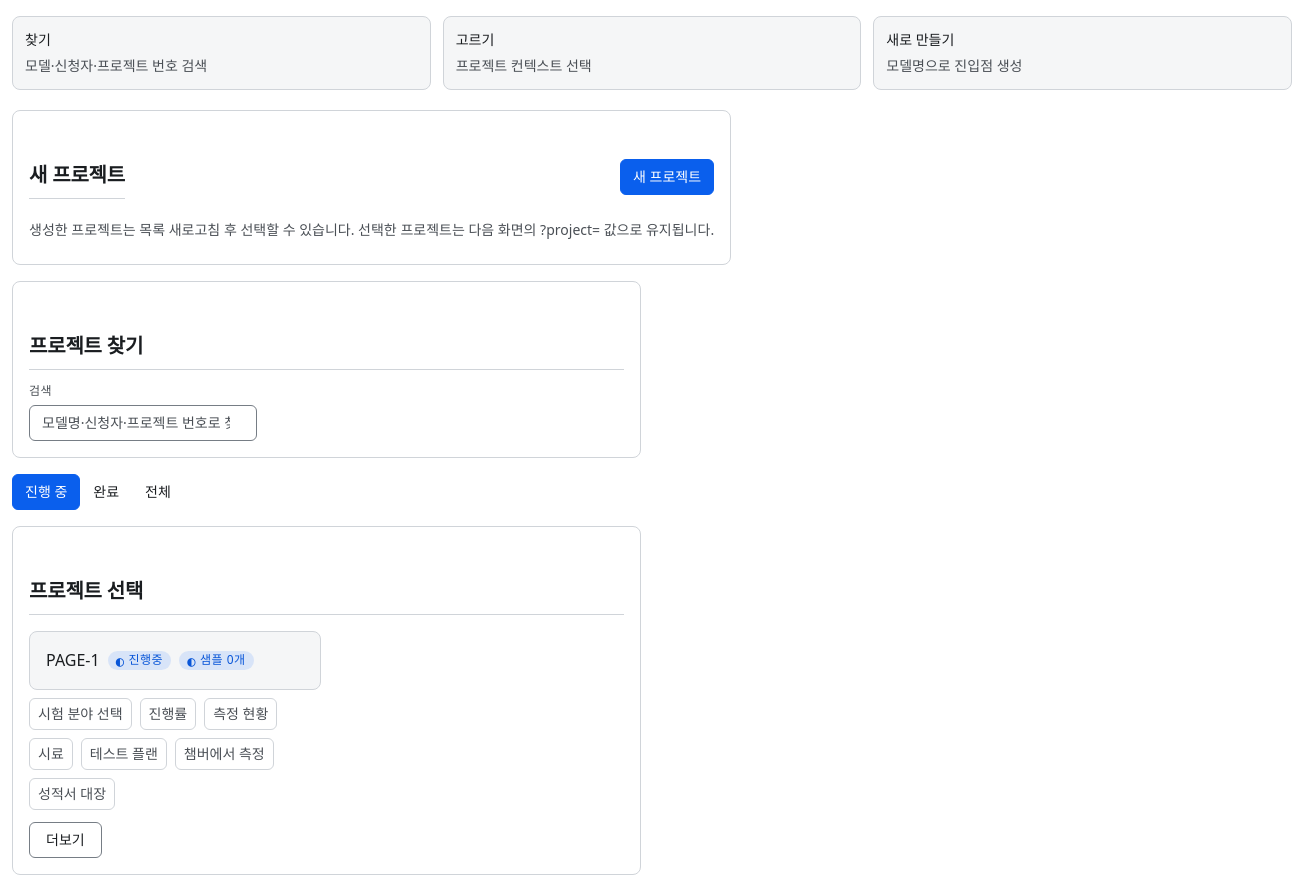
MyProjectsRoute 서버측 검색 + keyset (W3-B M-B) › S12 — consumes X-Next-Cursor and sends it back on 더보기
(page scrolled)
Click the button with test id "project-load-more".
click(65, 840)  # box [29,822,102,858]
(page scrolled)
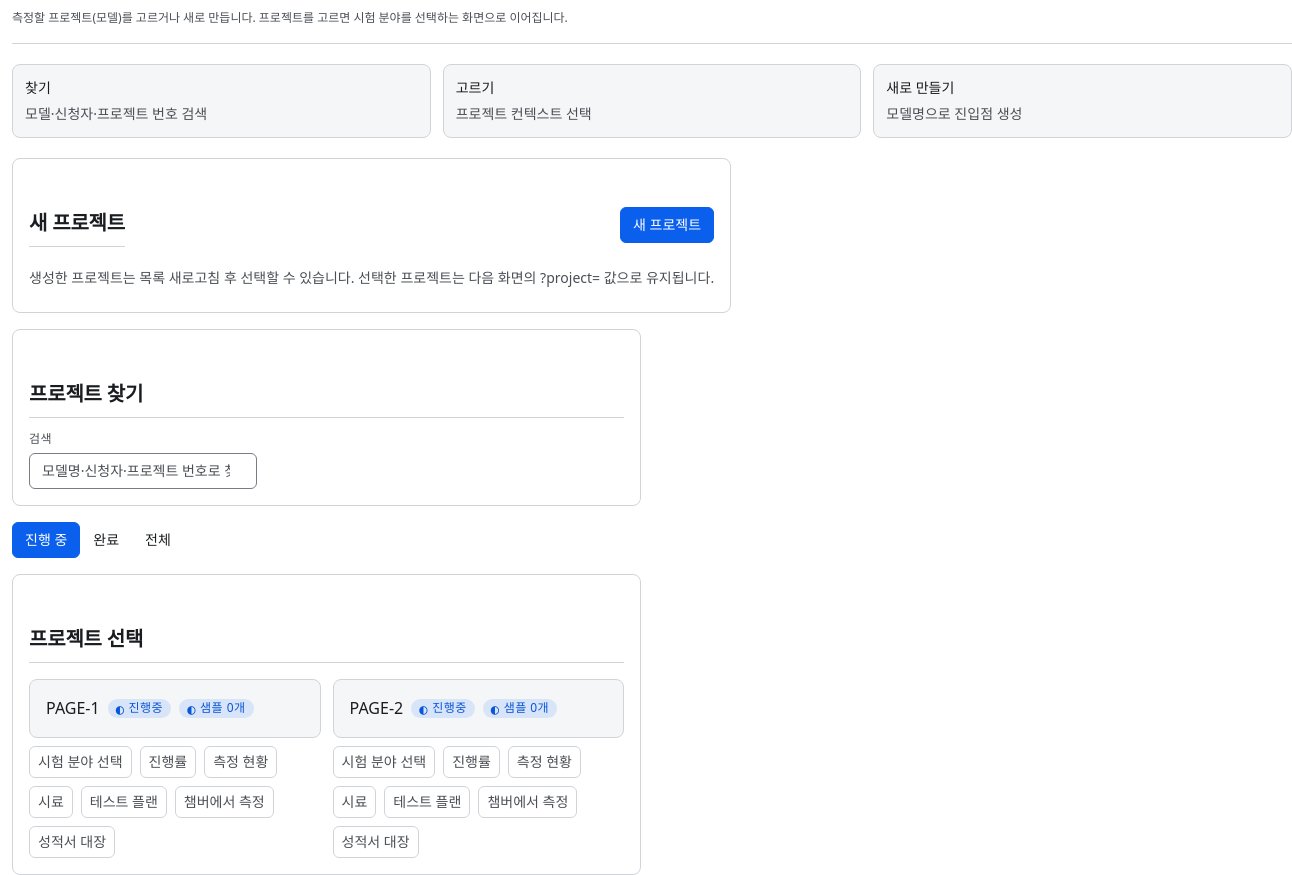
Now the button with test id "project-load-more" is gone
